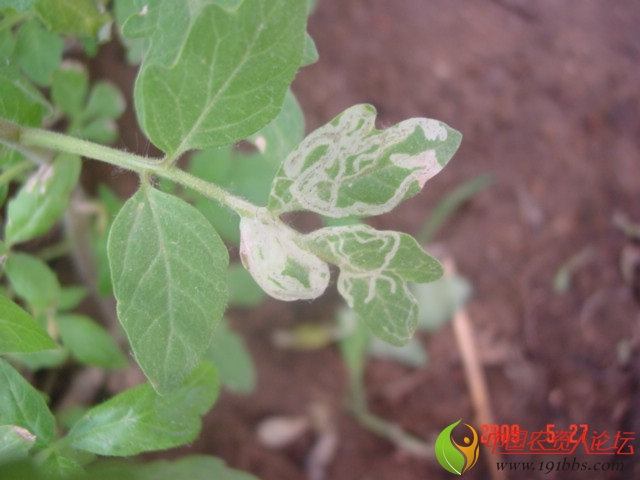liriomyza: (268, 103, 448, 218), (238, 214, 399, 309)
